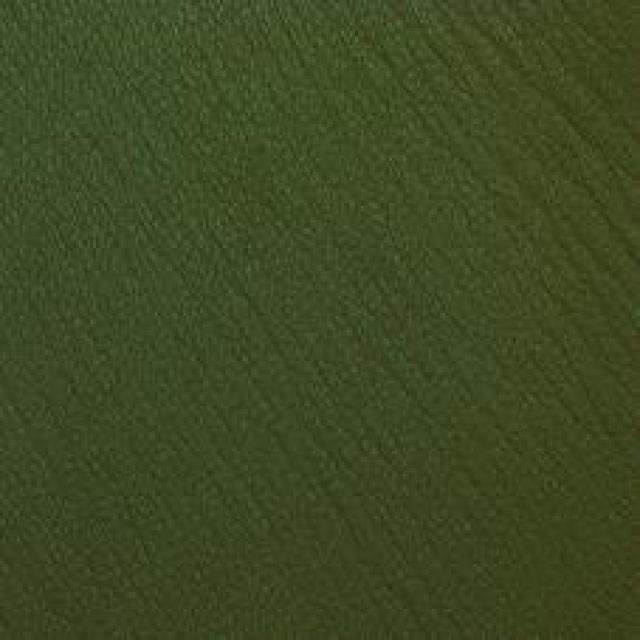Growth Marks: (406, 24, 609, 239), (282, 447, 436, 613)
